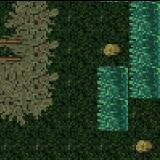Interaction: (0, 31, 25, 68)
Obstacle: (96, 32, 128, 65), (128, 131, 160, 160)
Slow: (129, 0, 160, 96), (96, 65, 128, 130)
